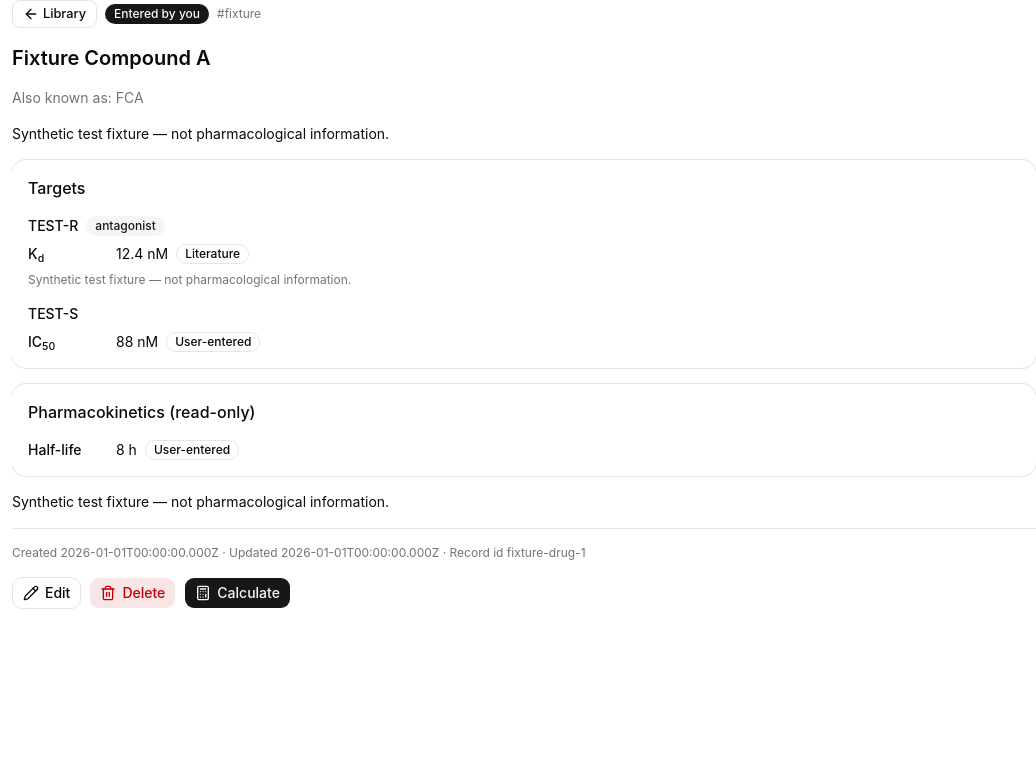
Test: DrugDetailView › requires an explicit acknowledgement before deleting
Step 1. Click the button with test id "delete-drug" → click(133, 593), box [89,577,176,609]
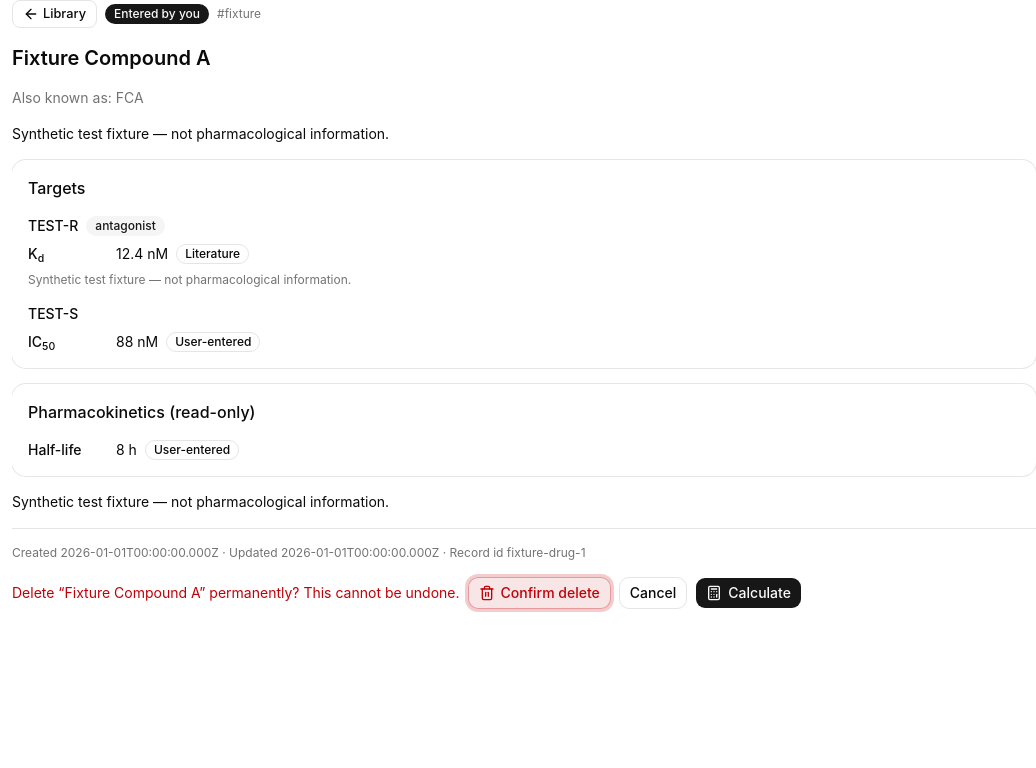
Expected: the text with test id "delete-confirm-text" shows "Fixture Compound A", [64,584,199,601]
Expected: the button with test id "delete-drug" is gone
# Escape cancels and returns focus to the Delete button.
Step 2. Press Escape in the button with test id "delete-drug-confirm", box [468,577,611,609]
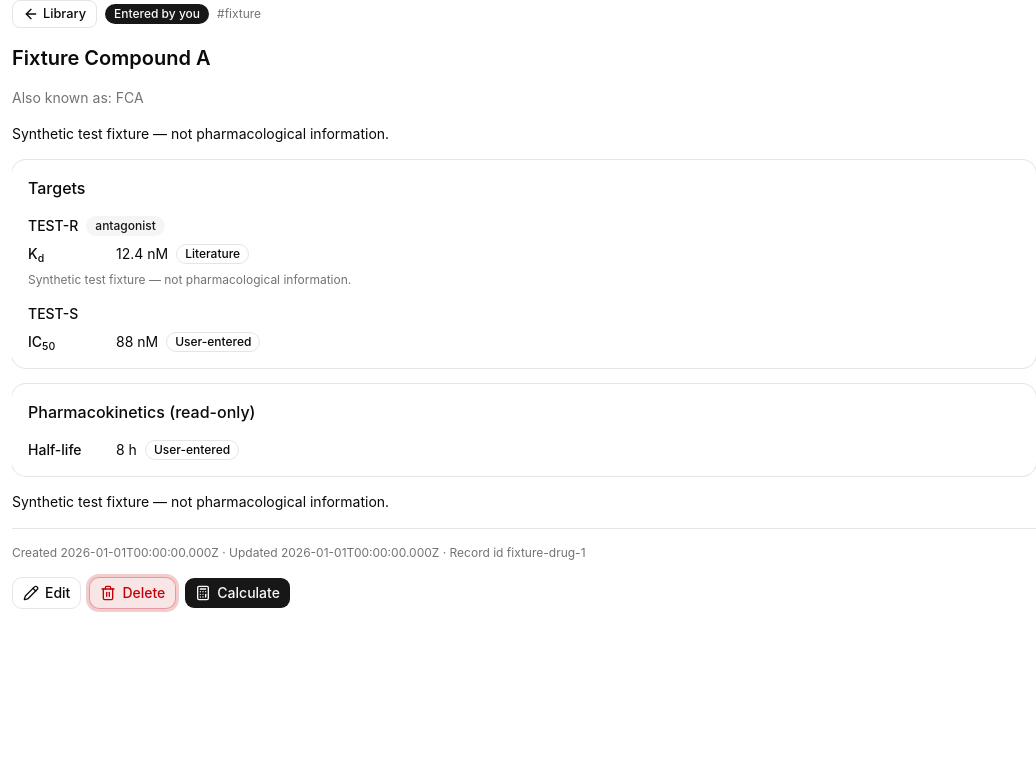
Expected: the button with test id "delete-drug" is shown, [89,577,176,609]
Expected: the button with test id "delete-drug-confirm" is gone
